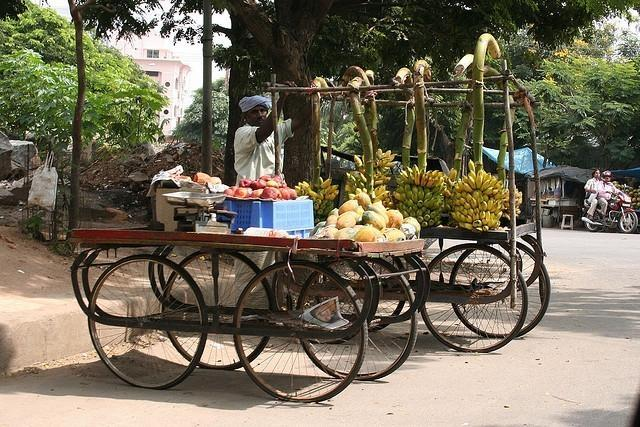motorcycle: (582, 191, 637, 232)
